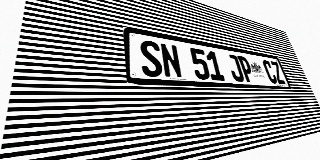1: (204, 50, 225, 81)
5: (189, 48, 211, 80)
C: (261, 60, 278, 84)
J: (226, 54, 245, 82)
N: (159, 42, 183, 79)
P: (237, 55, 256, 82)
S: (139, 39, 164, 77)
Z: (270, 61, 286, 84)
